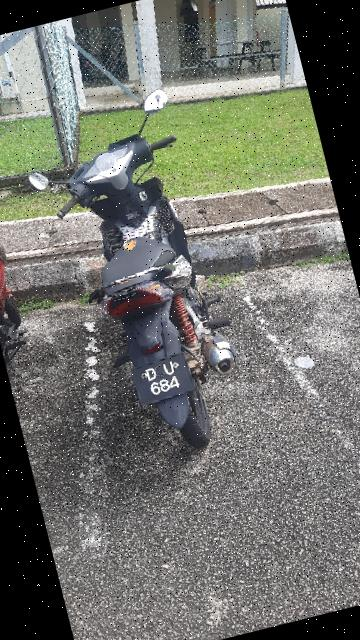License_Plate: (130, 350, 200, 409)
motorcycle: (8, 75, 277, 477)
